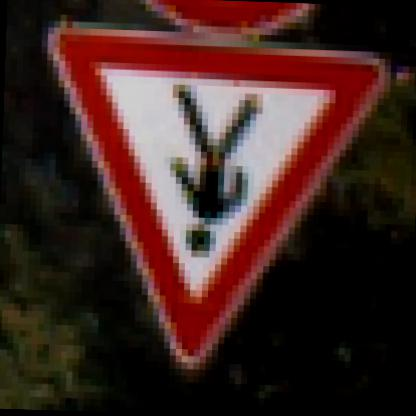crosswalk: (37, 19, 394, 375)
